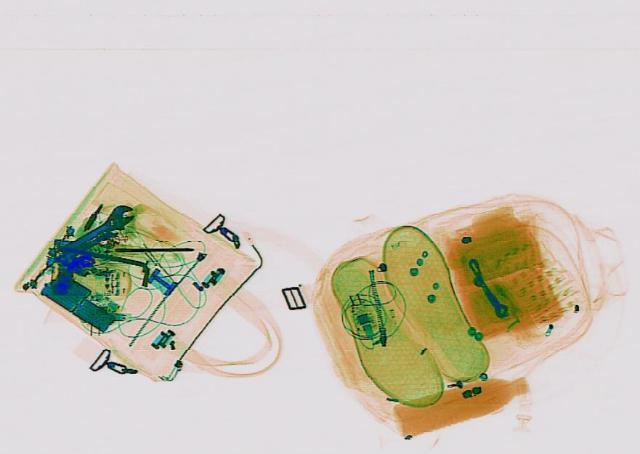Wrench: (48, 200, 144, 256), (54, 223, 118, 261)
